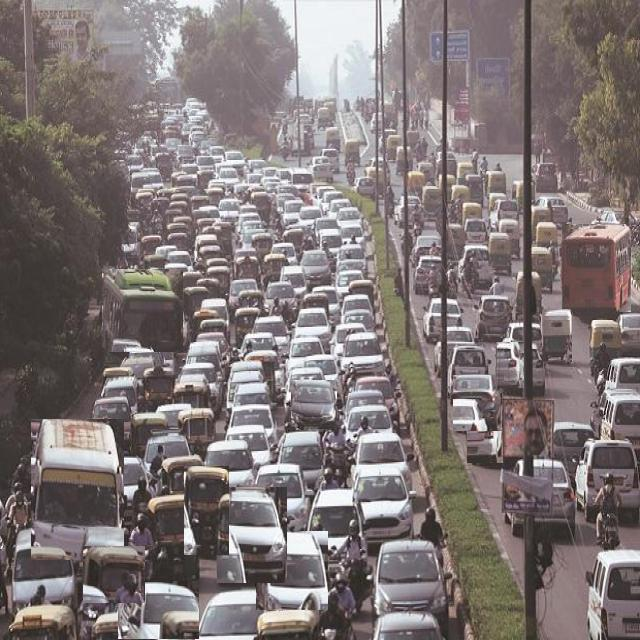autorickshaw: (148, 493, 200, 585), (184, 466, 229, 555), (83, 546, 144, 603), (542, 309, 571, 362)
bus: (31, 420, 124, 560), (102, 269, 182, 352), (562, 224, 630, 312)
car: (374, 539, 445, 634), (217, 487, 286, 583), (12, 526, 78, 614), (256, 531, 328, 610), (575, 441, 640, 522), (351, 466, 414, 542), (118, 581, 199, 639), (256, 464, 312, 530), (351, 431, 414, 487), (453, 376, 501, 431), (205, 439, 255, 489), (467, 400, 502, 463), (291, 381, 336, 430), (496, 343, 524, 388)
motorcycle: (595, 473, 621, 550)
